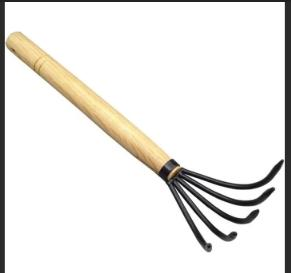HOUE: (0, 11, 291, 273)
